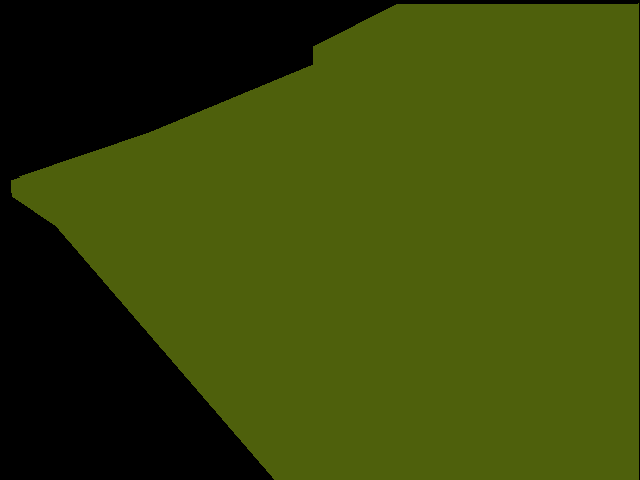Train: (11, 3, 639, 480)
